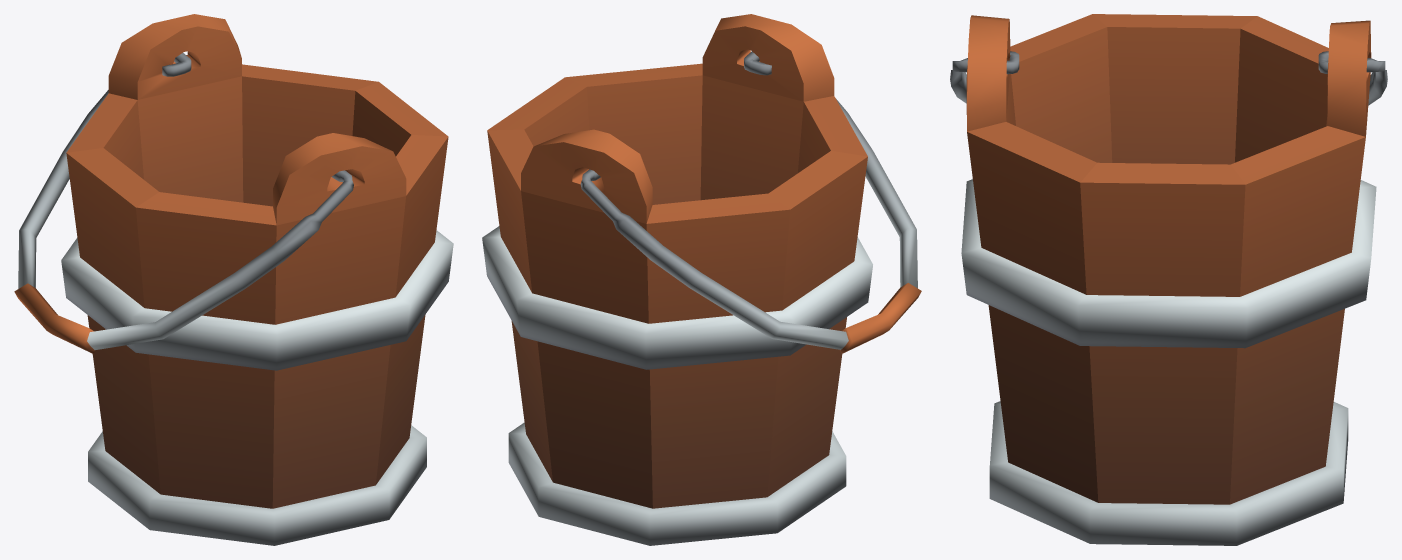
Rendered from Bucket2.fbx.
The picture shows the model from 3 angles, left to right: view 1: azimuth 30°, elevation 25°; view 2: azimuth 150°, elevation 25°; view 3: azimuth 270°, elevation 25°; orthographic projection. The views are drawn at different scales.
Visible parts, largest first — view 1: Bucket1; view 2: Bucket1; view 3: Bucket1.
Boxes of the visible parts, bbox=[...] form: Bucket1: bbox=[14, 14, 453, 545]; Bucket1: bbox=[482, 14, 921, 545]; Bucket1: bbox=[950, 14, 1387, 545].
Bounding box in the file's own units: 0.3019 × 0.3031 × 0.2722.
